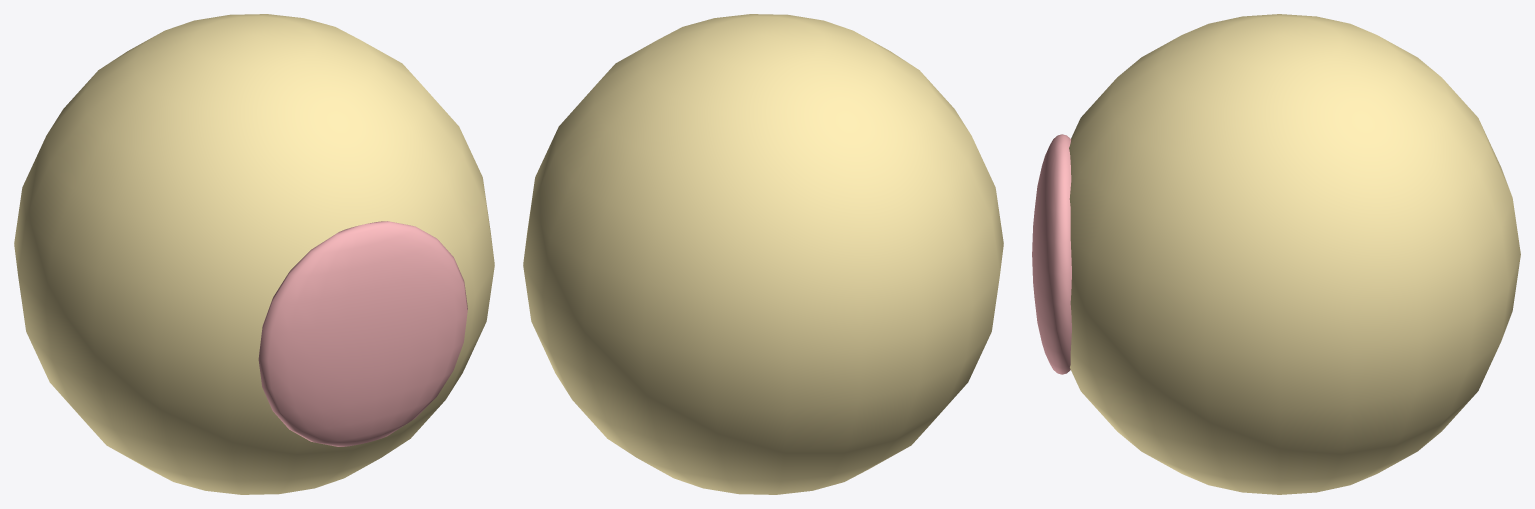
Rendered from toy-ball.glb.
3 views of the same model, side by side, from view 1: azimuth 30°, elevation 25°; view 2: azimuth 150°, elevation 25°; view 3: azimuth 270°, elevation 25° (orthographic).
Parts seen in each view (by area): view 1: ball, patch; view 2: ball; view 3: ball, patch.
Part boxes in pixels (box(x1,y1,x2,y2)): ball: box(14, 14, 494, 494); patch: box(258, 221, 467, 446); ball: box(523, 14, 1003, 494); ball: box(1069, 14, 1520, 494); patch: box(1032, 134, 1071, 374).
Bounding box in the file's own units: 0.4 × 0.4 × 0.405.
